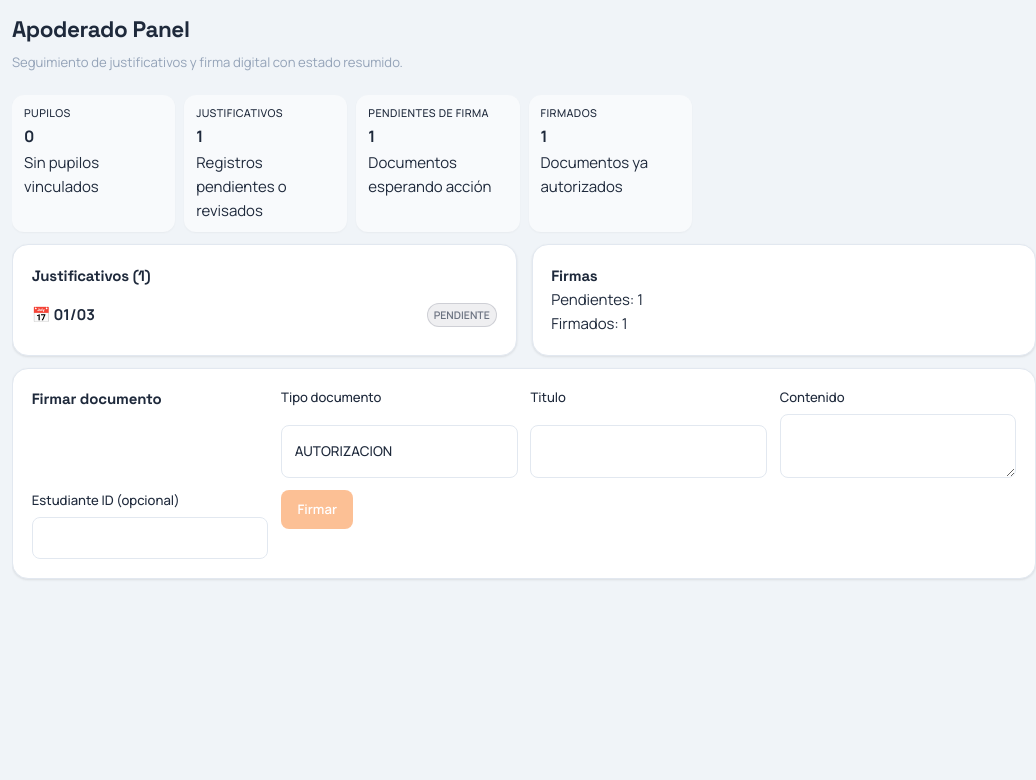
Scenario: ApoderadoPage › submits sign document form
expect the heading "Justificativos (1)" is shown: met, box [32,264,150,288]
Type "Autorizacion salida" into the field labelled "Titulo". click: (649, 452)
box: [530,425,767,478]
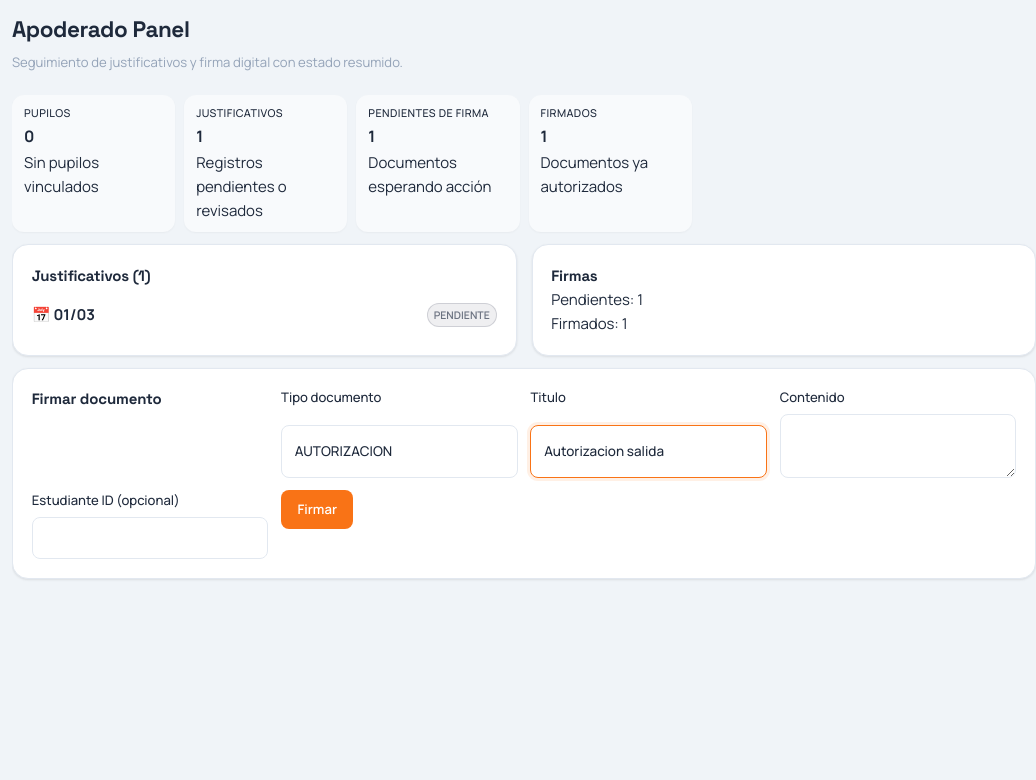
Type "Autorizo salida anticipada" into the text box labelled "Contenido". click: (898, 446)
box: [780,414,1016,478]
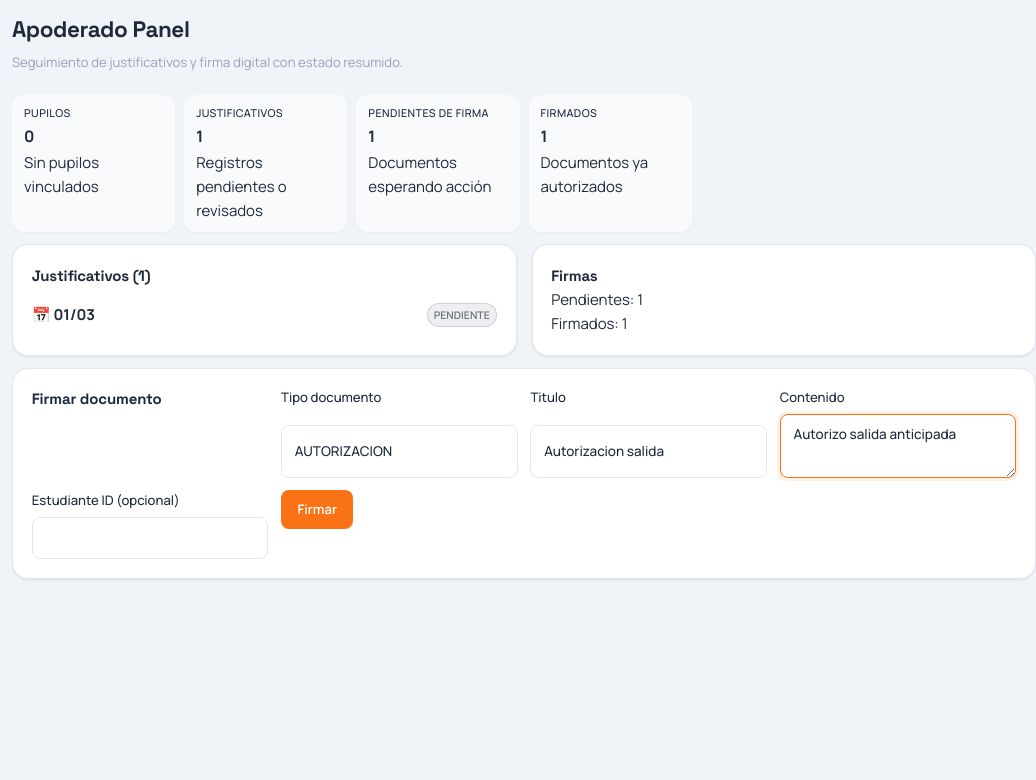
Type "44" into the number field labelled "Estudiante ID (opcional)". click: (150, 538)
box: [32,517,268,559]
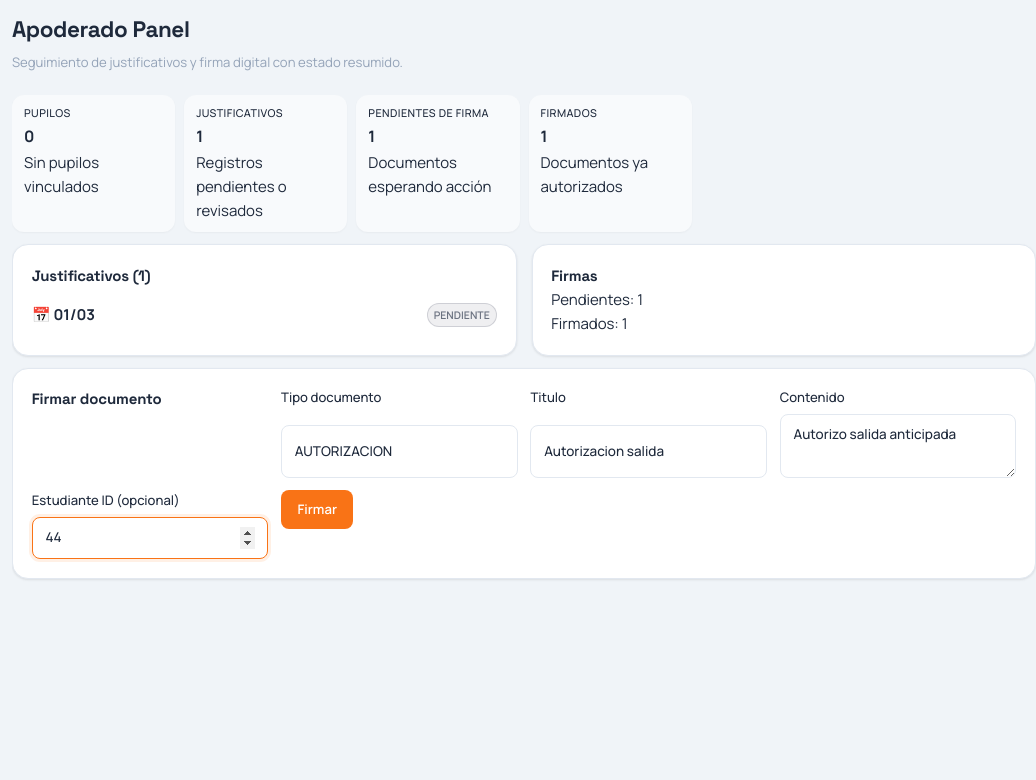
Click the button "Firmar". click: (317, 510)
box: [281,490,354,529]
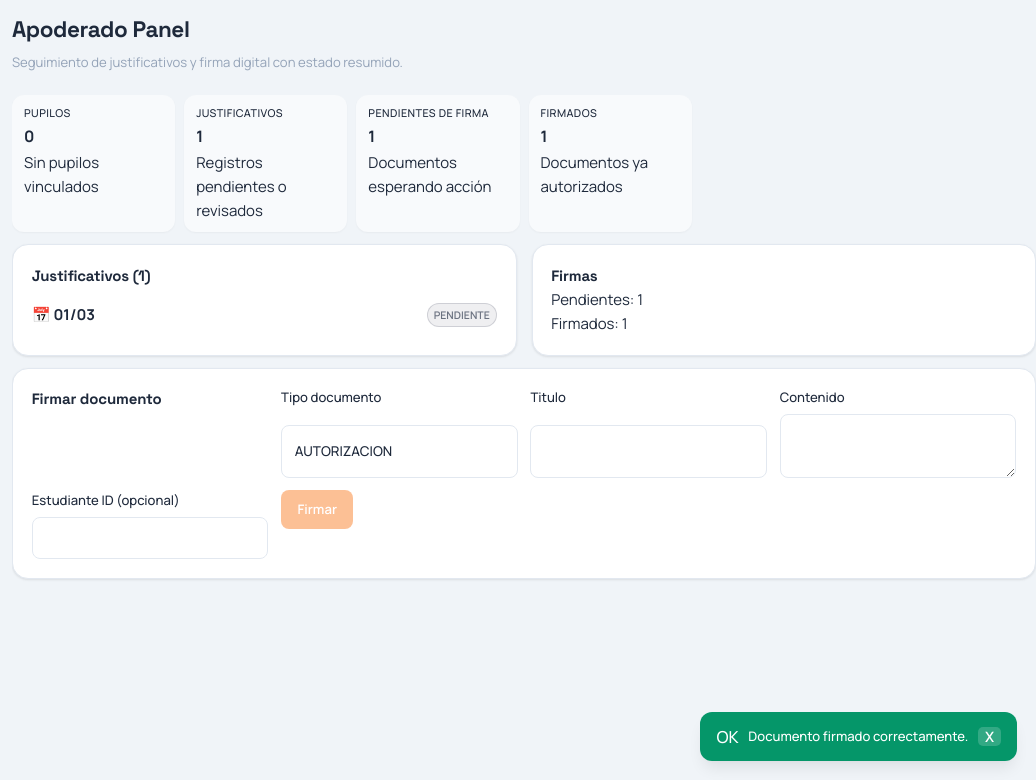
expect the text "Documento firmado correctamente." is shown: met, box [748,726,968,747]
